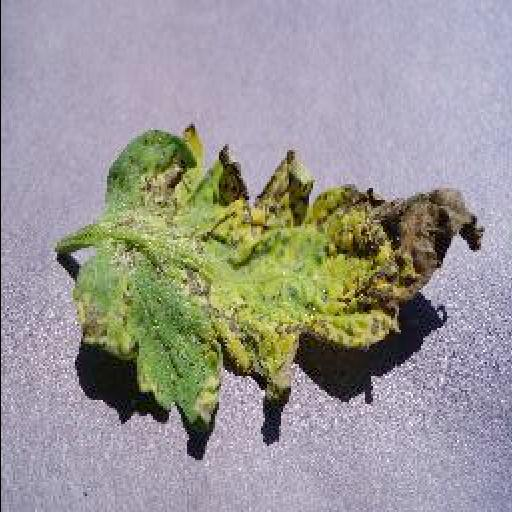disease_tomato: (76, 124, 486, 426)
